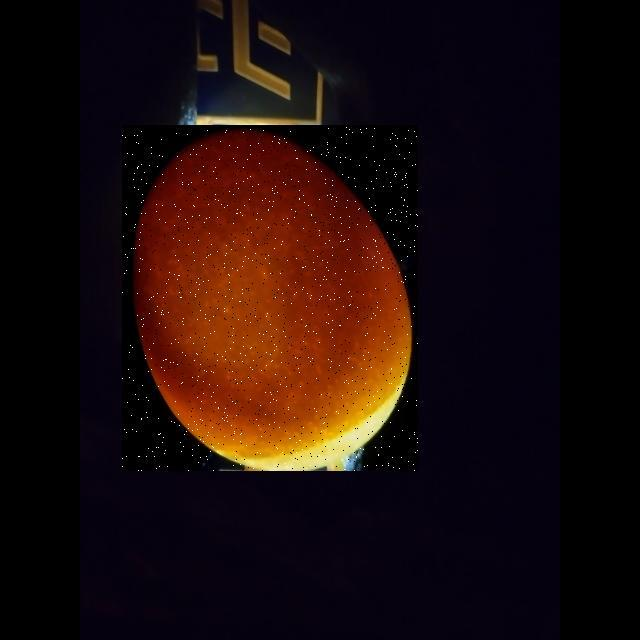Infertile: (122, 125, 418, 471)
